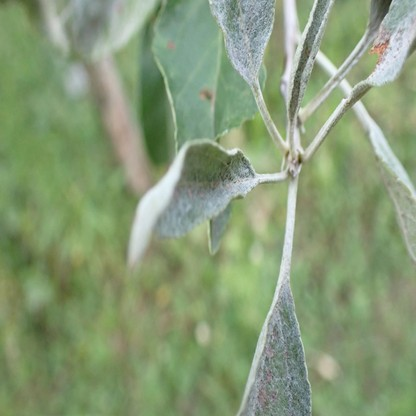frogeye: (199, 88, 214, 103), (167, 40, 174, 50)
powder: (128, 141, 256, 267), (237, 280, 317, 416), (370, 130, 416, 261), (352, 0, 416, 89), (209, 0, 276, 83), (287, 2, 330, 122)
